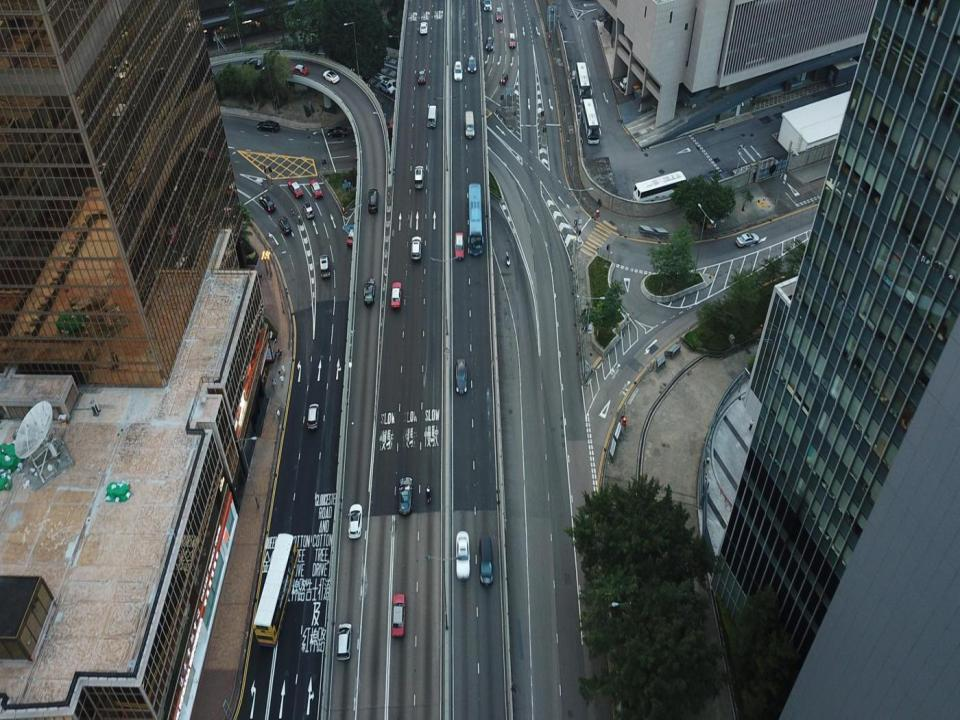bus: (253, 534, 298, 648), (634, 171, 686, 204), (468, 184, 483, 256), (582, 98, 600, 144), (575, 62, 592, 102)
car: (479, 535, 493, 585), (456, 531, 470, 579), (336, 623, 352, 658), (392, 594, 405, 637), (398, 477, 412, 514), (348, 504, 362, 538), (455, 358, 467, 394), (736, 232, 759, 248), (306, 404, 320, 428), (364, 278, 376, 304), (454, 232, 464, 260), (257, 120, 279, 132), (368, 189, 379, 213), (410, 236, 422, 258), (288, 180, 304, 196), (260, 194, 275, 211), (319, 254, 330, 277), (309, 179, 323, 197), (392, 281, 401, 308), (414, 166, 424, 190), (290, 64, 308, 77), (279, 216, 292, 234), (323, 70, 339, 84), (243, 58, 261, 68), (328, 128, 348, 137), (303, 201, 314, 217), (346, 226, 355, 245), (454, 62, 462, 81), (468, 55, 476, 73), (486, 36, 493, 51), (508, 33, 515, 48), (418, 69, 426, 82), (496, 6, 502, 21), (420, 22, 428, 33), (484, 0, 492, 11)
van: (465, 111, 474, 138), (379, 80, 396, 94), (426, 105, 437, 126), (620, 76, 636, 89)
